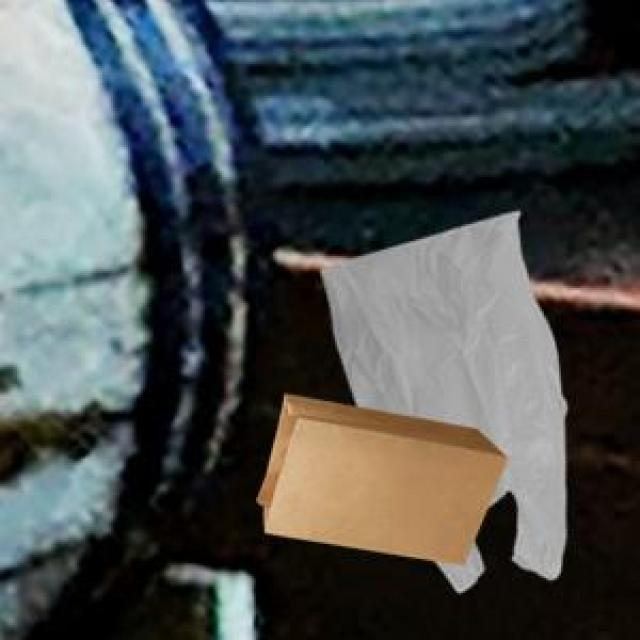paper: (254, 390, 504, 561)
